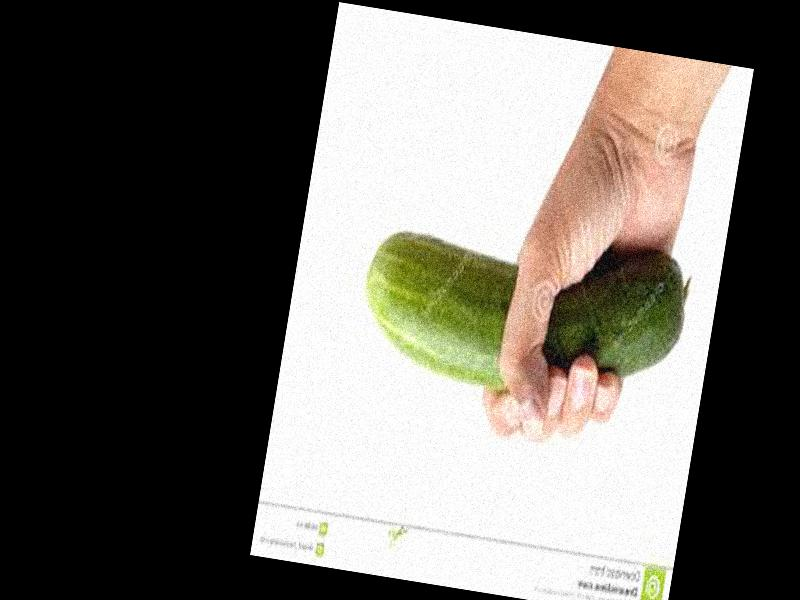Cucumber: (351, 208, 691, 419)
